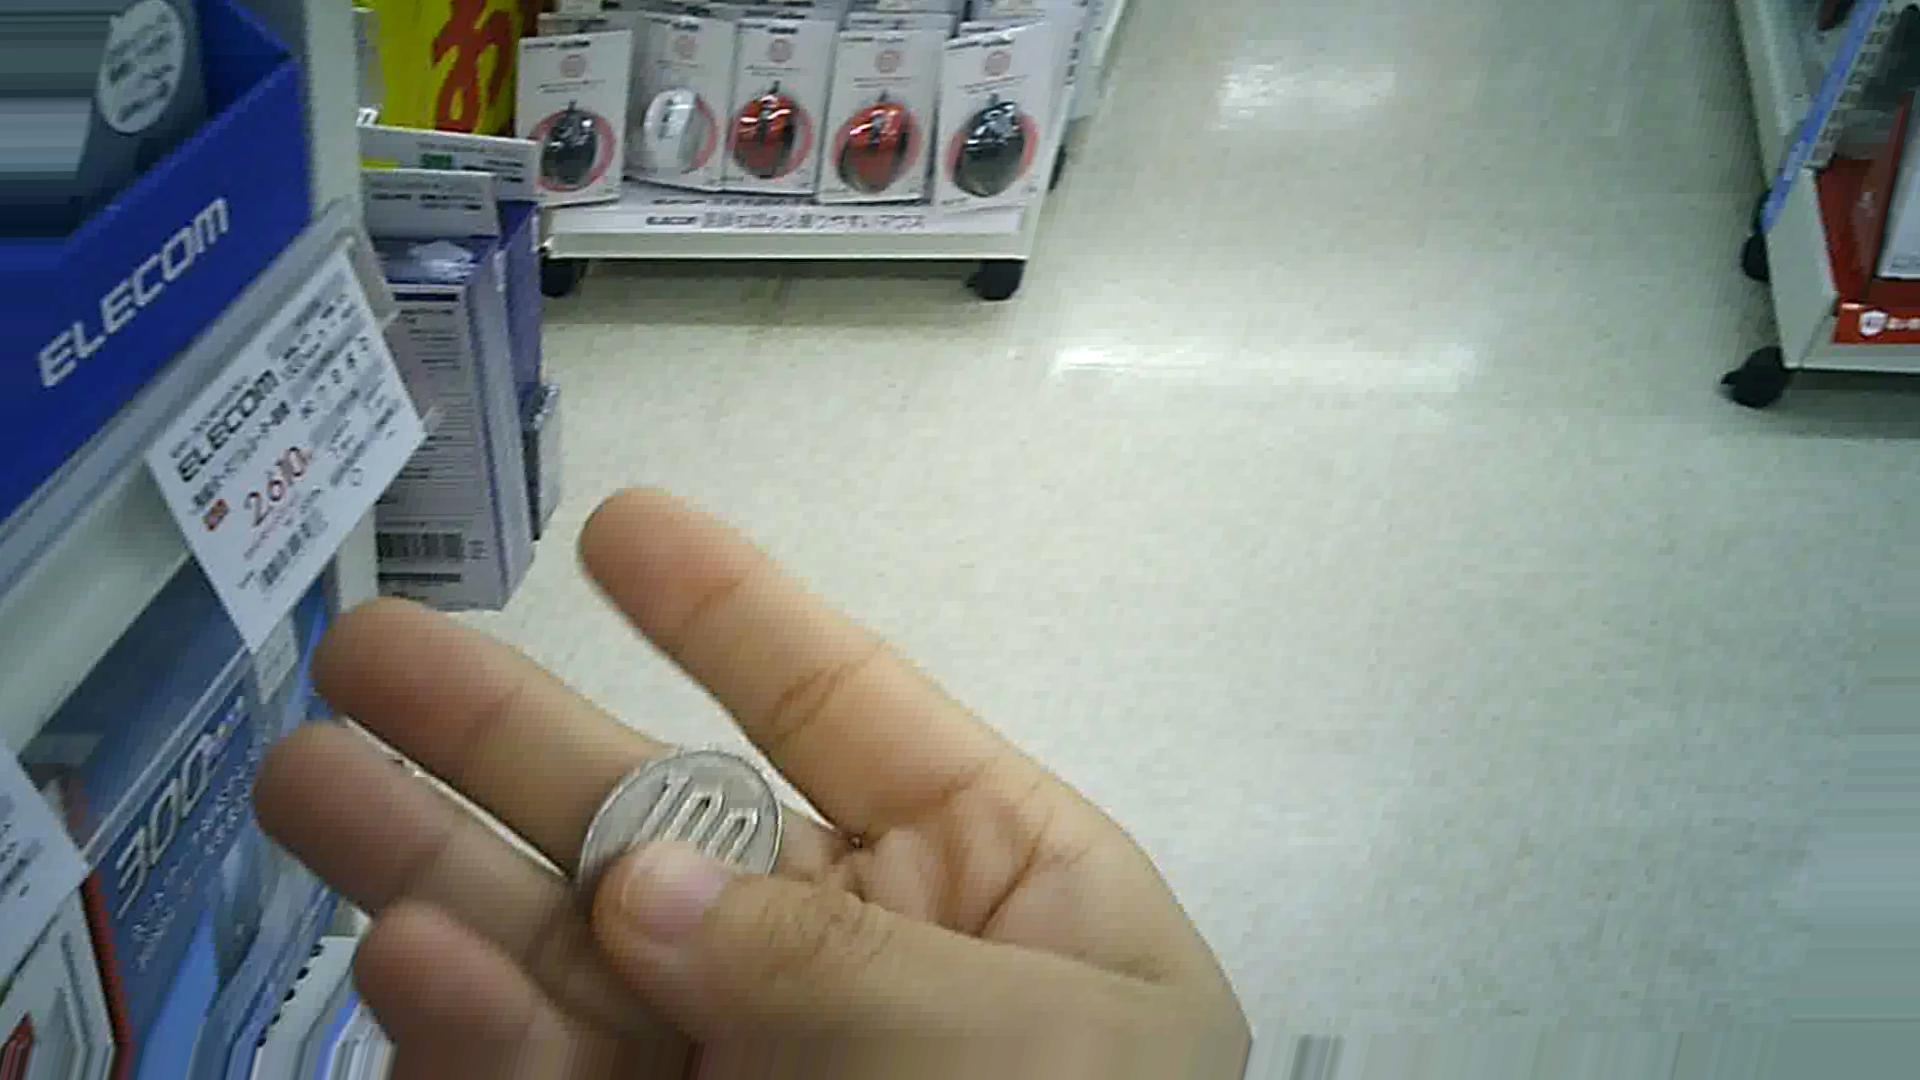100 Yen: (558, 742, 775, 924)
